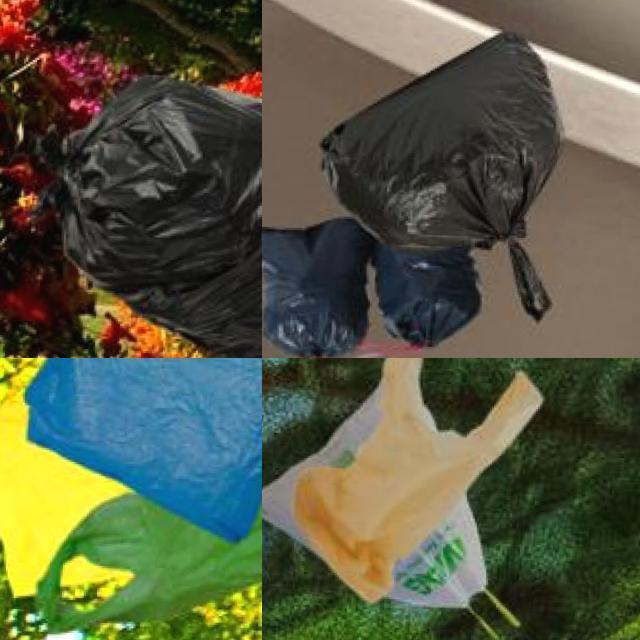waste: (46, 71, 262, 358), (340, 17, 570, 276), (262, 373, 491, 612), (305, 358, 540, 588), (73, 358, 262, 629), (19, 358, 262, 547), (262, 211, 369, 358), (373, 244, 492, 349)
